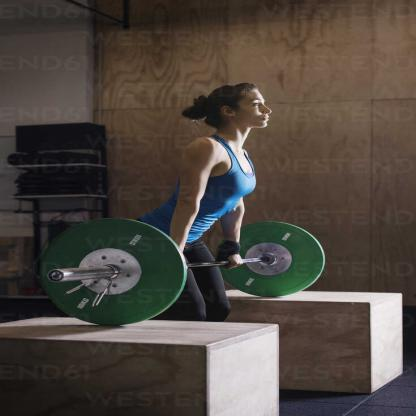barbell: (39, 215, 327, 327)
